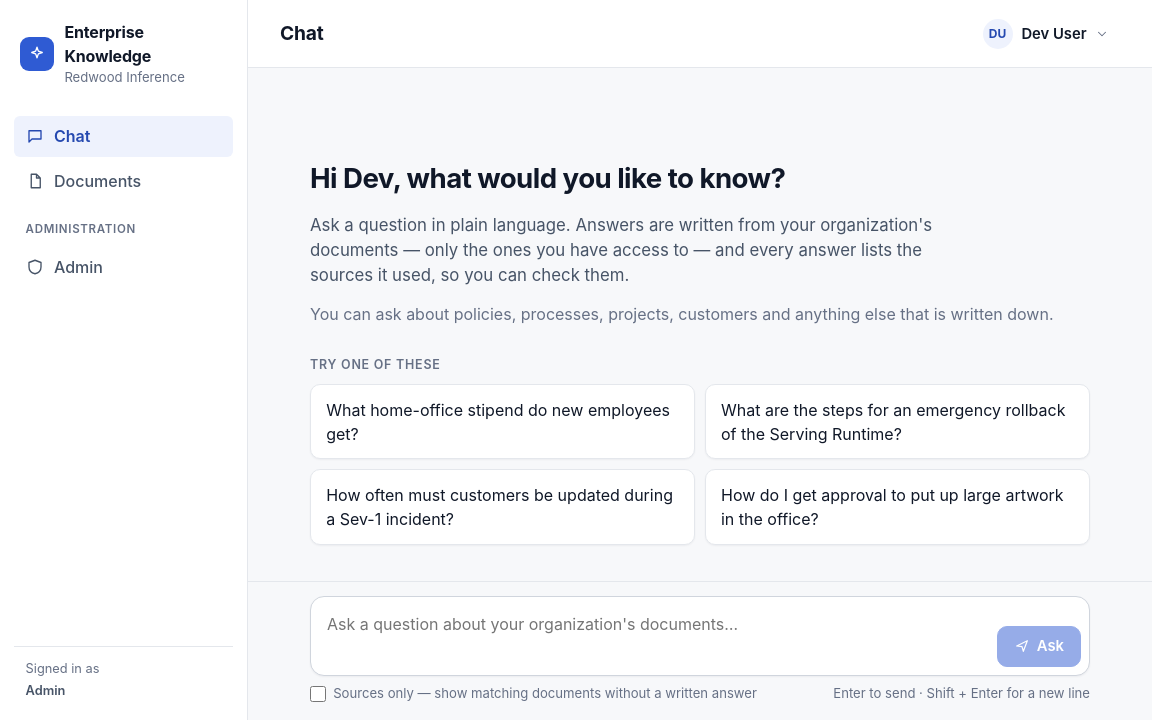
it: admin section visibility › admins see the admin navigation, and the role comes from /auth/me on reload
The width and height of the screenshot is (1152, 720).
Click the button "Admin" at [124, 266], box [14, 246, 233, 287]
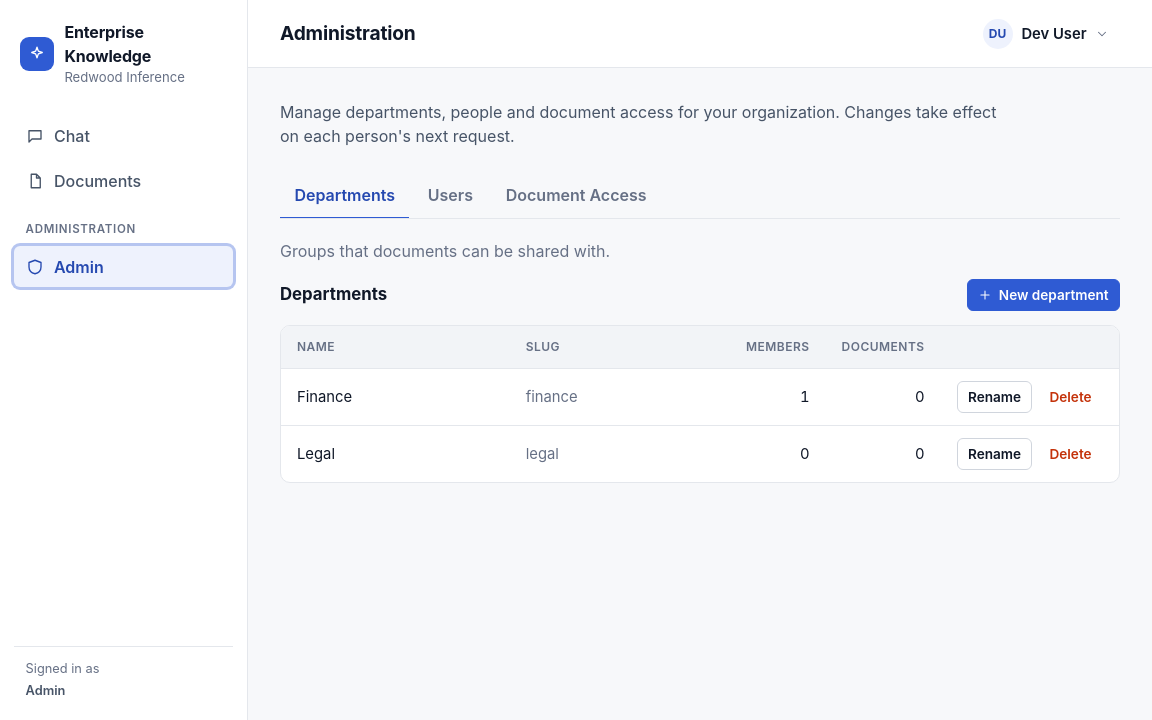
Expected: the heading "Departments" is shown, [280, 282, 387, 308]
Expected: the cell "Finance" is shown, [281, 369, 510, 426]
